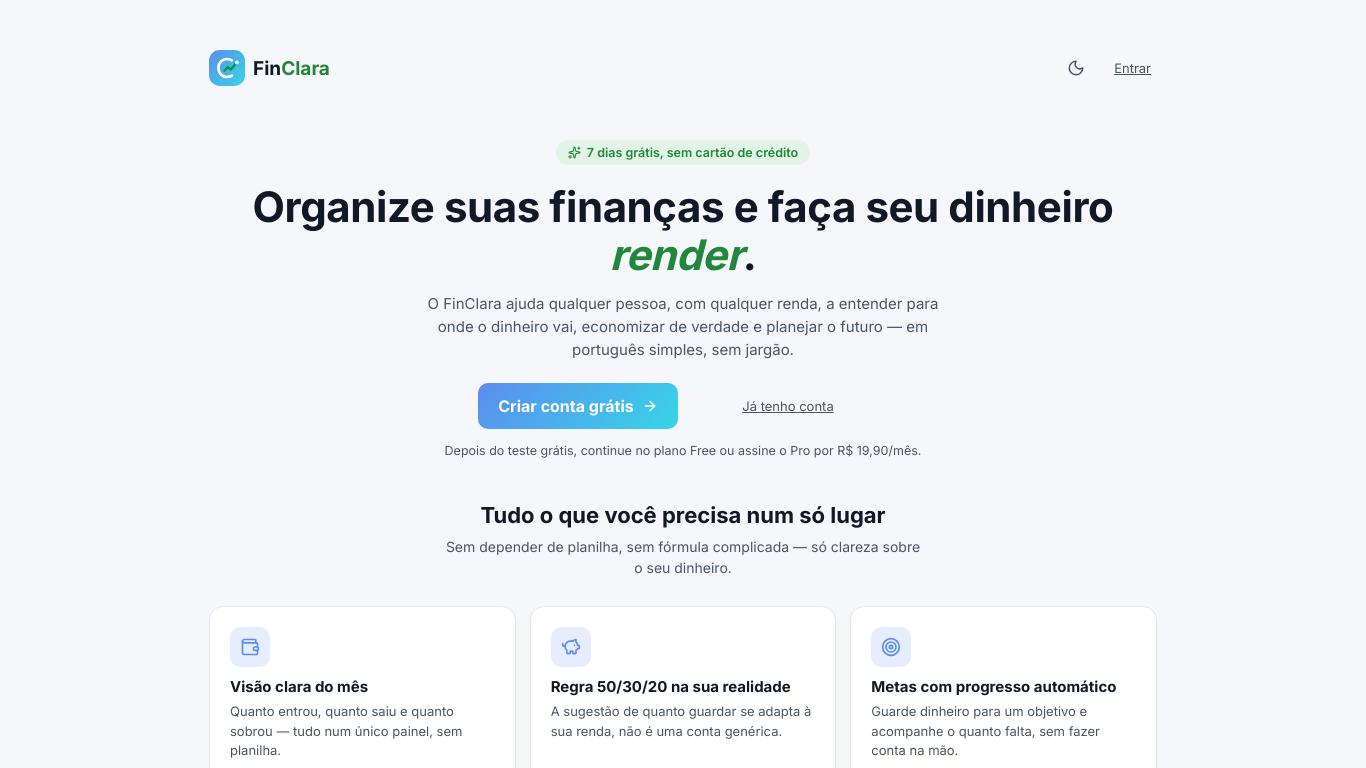
Landing pública e autenticação › mostra a landing page com CTA de cadastro para visitante não logado
Expected: the heading "Organize suas finanças" is shown, [253, 181, 1114, 232]
Click the link "Criar conta grátis" at (578, 406), box [478, 383, 678, 429]
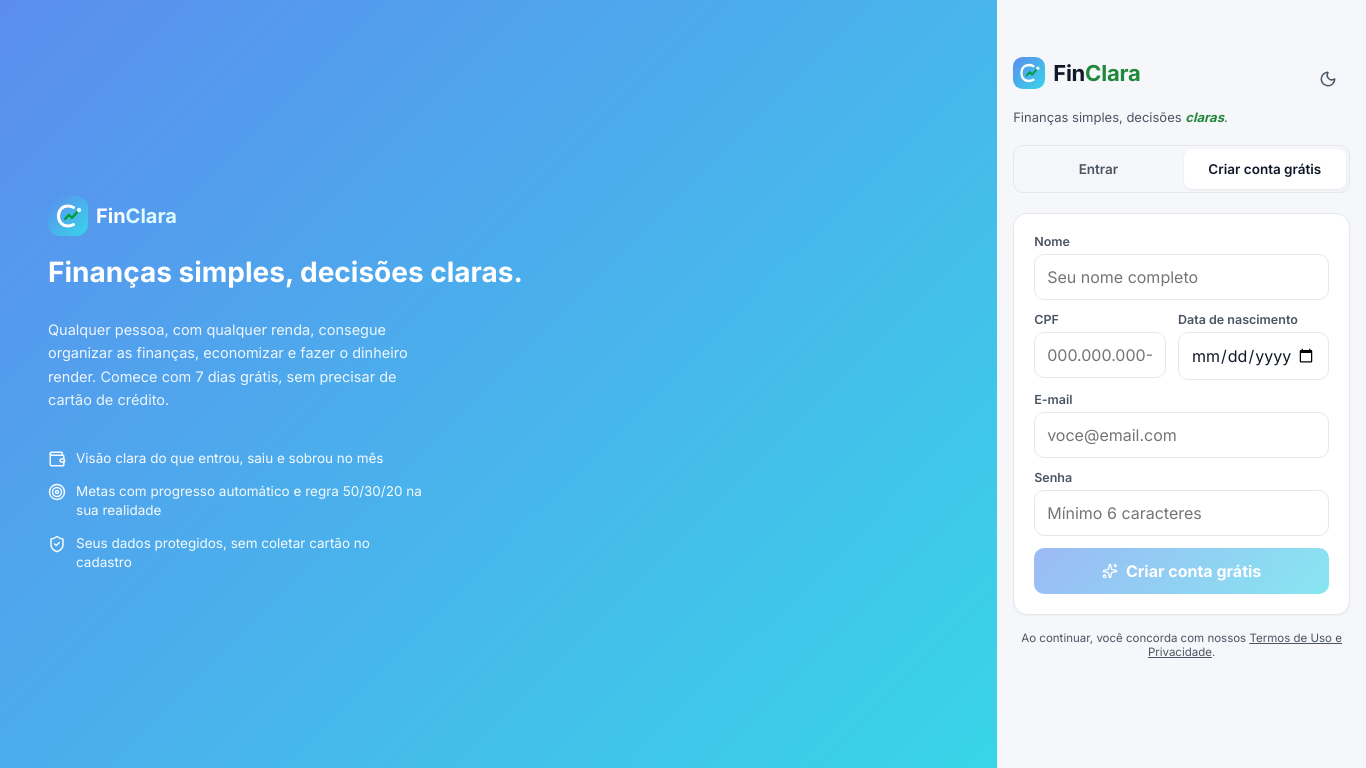
Expected: the field with id "nome" is shown, [1034, 254, 1329, 300]
